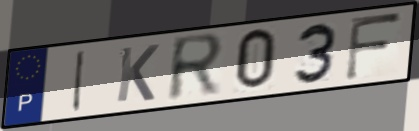0: (233, 25, 281, 94)
3: (291, 20, 339, 87)
F: (342, 11, 405, 83)
I: (69, 48, 89, 114)
K: (113, 42, 162, 105)
R: (164, 31, 228, 106)
